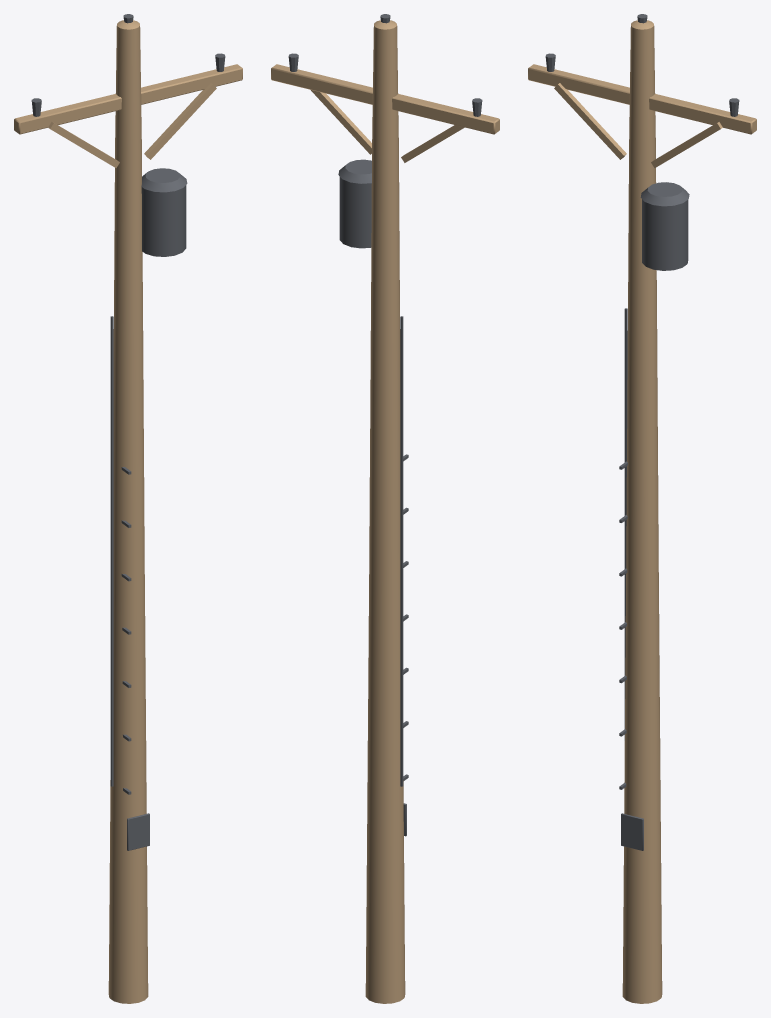
Rendered from UtilityPole.fbx.
3 renders of one model, left to right at view 1: azimuth 30°, elevation 25°; view 2: azimuth 150°, elevation 25°; view 3: azimuth 330°, elevation 25°, orthographic.
Visible parts, largest first — view 1: UtilityPole; view 2: UtilityPole; view 3: UtilityPole.
Part boxes in pixels (x1=…): UtilityPole: x1=14, y1=14, x2=242, y2=1003; UtilityPole: x1=271, y1=14, x2=499, y2=1003; UtilityPole: x1=528, y1=14, x2=756, y2=1003.
Size of the model in its own units: 2.2 by 9.18 by 0.48.
